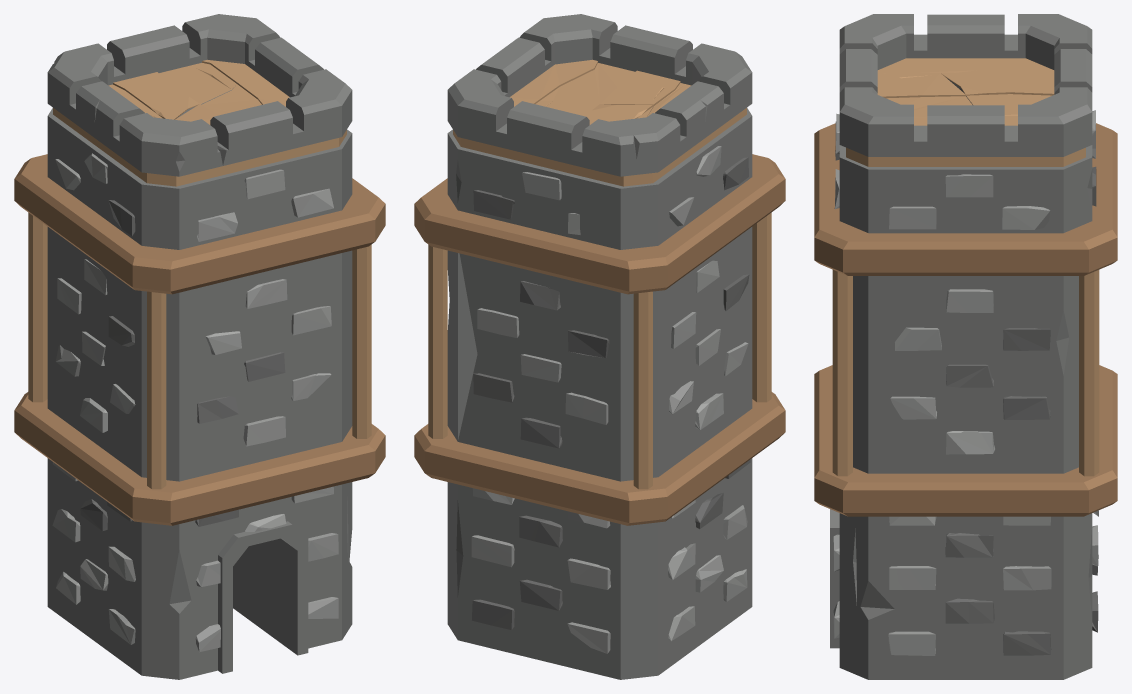
File: TowerPartsModel v2.FBX
3 views of the same model, side by side, from view 1: azimuth 30°, elevation 25°; view 2: azimuth 150°, elevation 25°; view 3: azimuth 270°, elevation 25° (orthographic). The views are drawn at different scales.
Parts seen in each view (by area): view 1: TowerV2, Object008, Object006, Object, Object001, Object004, Object010; view 2: Object006, TowerV2, Object004, Object, Object001, Object010, Object008; view 3: Object010, TowerV2, Object001, Object004, Object, Object006, Object008.
Boxes of the visible parts, bbox=[...] form: TowerV2: bbox=[14, 392, 385, 679]; Object008: bbox=[132, 210, 375, 489]; Object006: bbox=[14, 154, 179, 481]; Object: bbox=[47, 51, 263, 249]; Object001: bbox=[151, 37, 352, 229]; Object004: bbox=[65, 14, 280, 119]; Object010: bbox=[342, 178, 385, 441]; Object006: bbox=[424, 174, 785, 489]; TowerV2: bbox=[414, 392, 785, 679]; Object004: bbox=[447, 69, 653, 249]; Object: bbox=[609, 43, 752, 249]; Object001: bbox=[476, 14, 692, 116]; Object010: bbox=[414, 178, 477, 441]; Object008: bbox=[752, 154, 784, 402]; Object010: bbox=[814, 221, 1117, 476]; TowerV2: bbox=[814, 365, 1117, 679]; Object001: bbox=[834, 49, 1024, 233]; Object004: bbox=[940, 26, 1096, 233]; Object: bbox=[835, 14, 1086, 160]; Object006: bbox=[1092, 123, 1117, 236]; Object008: bbox=[814, 123, 839, 236].
Size of the model in its own units: 240 by 490 by 240.
